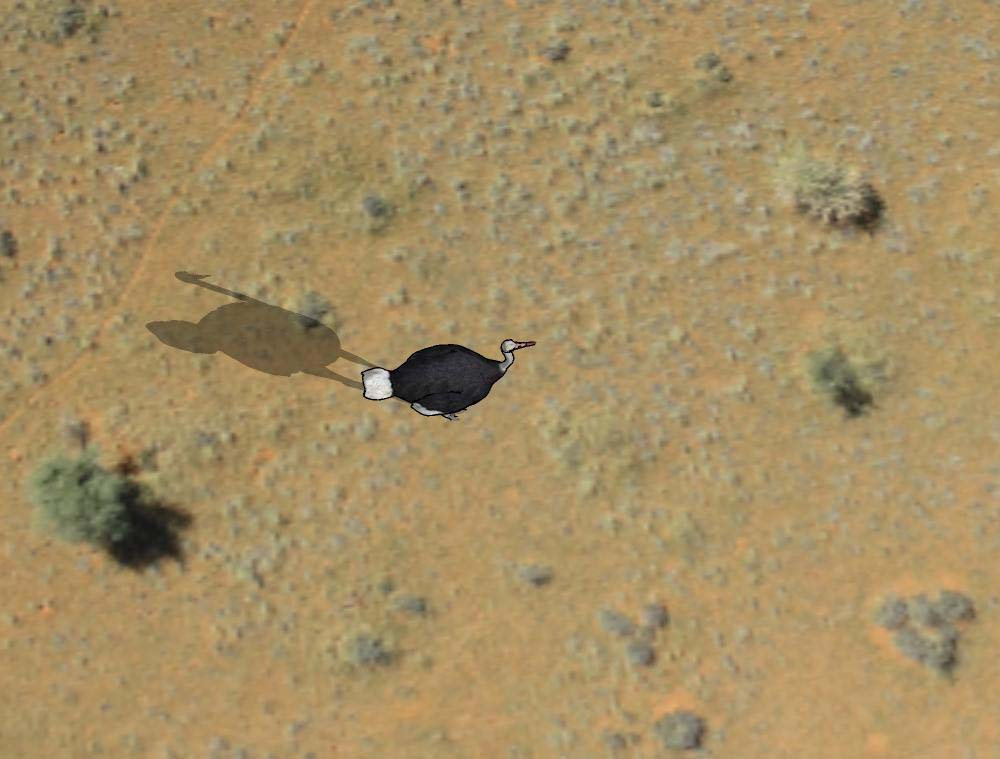ostrich: (353, 322, 544, 429)
